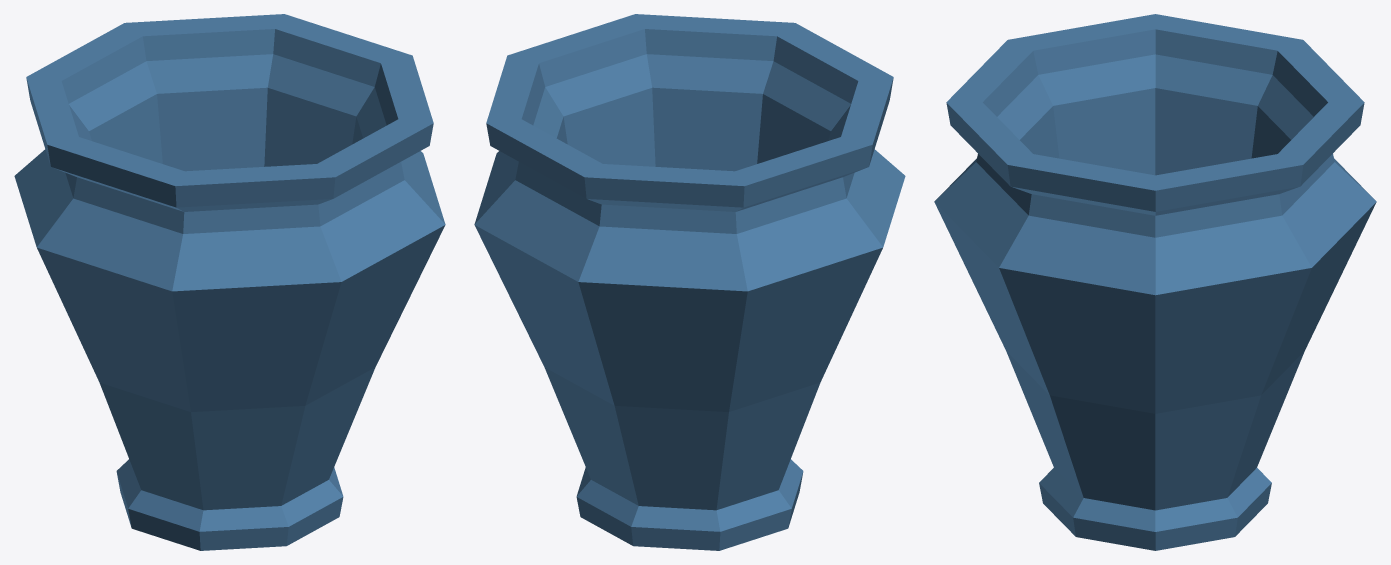
The model's file is qt-vase.glb.
3 renders of one model, left to right at view 1: azimuth 30°, elevation 25°; view 2: azimuth 150°, elevation 25°; view 3: azimuth 270°, elevation 25°, orthographic.
Visible parts, largest first — view 1: Vase_Cylinder.004; view 2: Vase_Cylinder.004; view 3: Vase_Cylinder.004.
Boxes of the visible parts, <box> form: Vase_Cylinder.004: <box>14,14,445,550</box>; Vase_Cylinder.004: <box>474,14,905,550</box>; Vase_Cylinder.004: <box>934,14,1376,550</box>.
Size of the model in its own units: 1 by 1 by 1.
